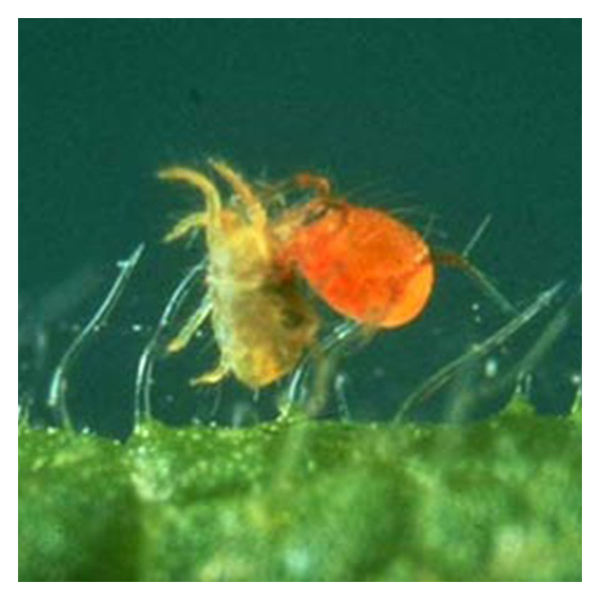Mites: (139, 122, 317, 408), (284, 166, 450, 346)
